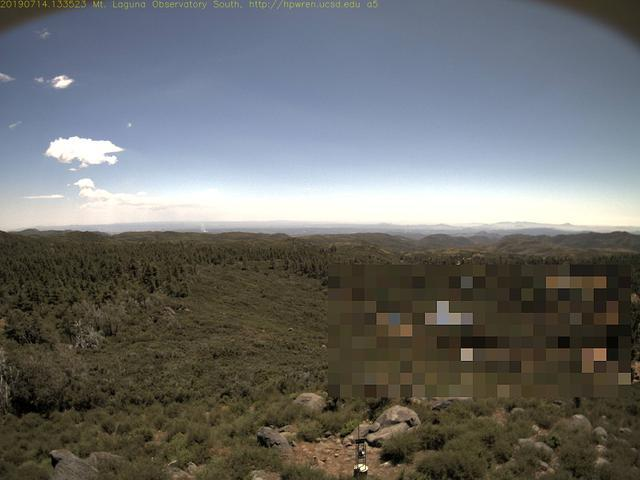smoke: (194, 214, 211, 235)
